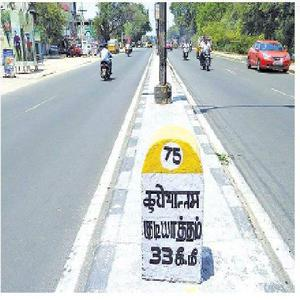kmstone: (141, 136, 207, 284)
